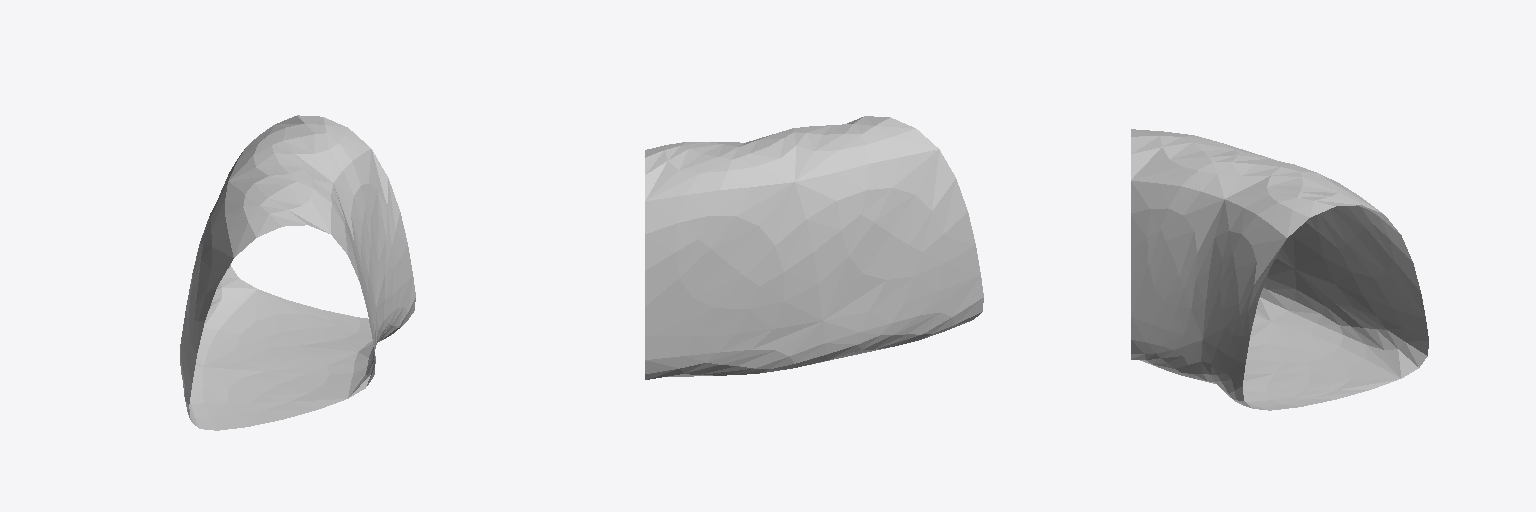
The model's file is cave_602r_0.obj.
The picture shows the model from 3 angles: view 1: azimuth 30°, elevation 25°; view 2: azimuth 150°, elevation 25°; view 3: azimuth 270°, elevation 25°; orthographic projection.
Visible parts, largest first — view 1: cave_602r_0_Cube.032; view 2: cave_602r_0_Cube.032; view 3: cave_602r_0_Cube.032.
Part boxes in pixels (left/top/right/bottom): cave_602r_0_Cube.032: left=180, top=115, right=415, bottom=430; cave_602r_0_Cube.032: left=645, top=116, right=983, bottom=379; cave_602r_0_Cube.032: left=1131, top=129, right=1428, bottom=410.
Size of the model in its own units: 8.9 by 5.9 by 8.14.